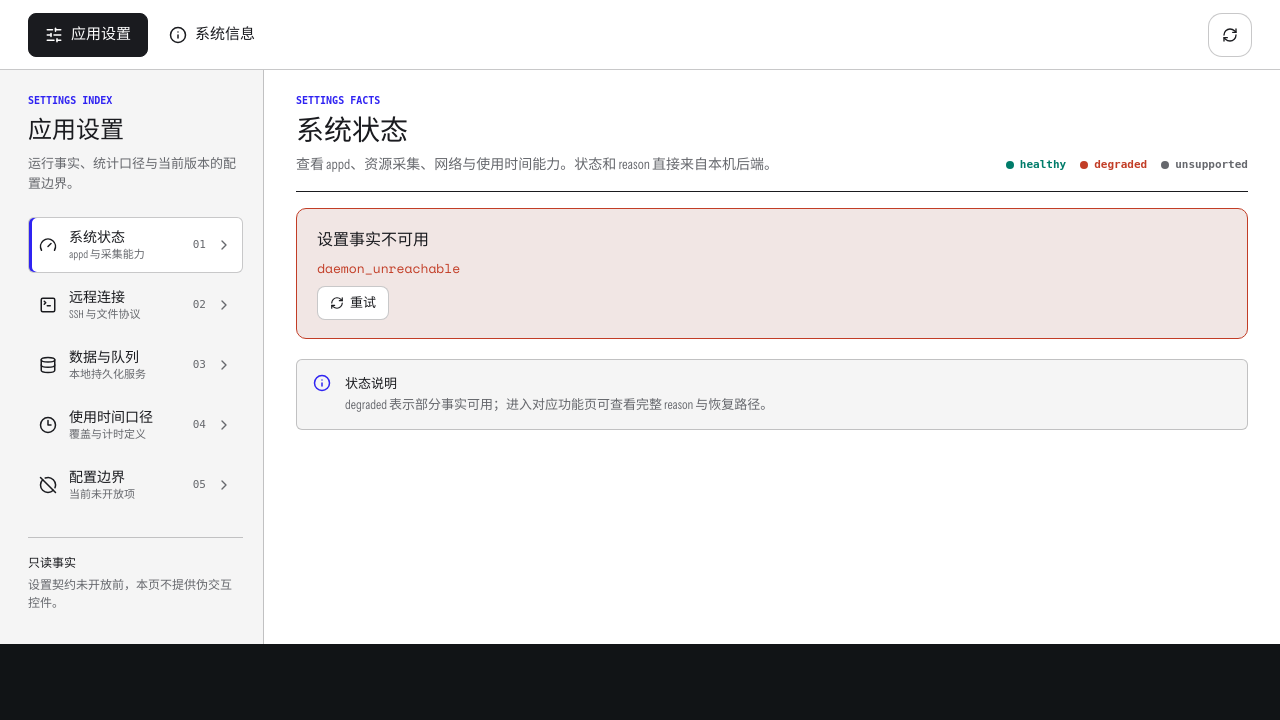
Test case: SettingsView › surfaces an unreachable daemon and retries the facts
Check: the message "设置事实不可用 daemon_unreachable 重试" is shown, box [296,208,1248,339]
Click the button with class "settings-retry". click: (353, 303)
box: [317,286,389,320]
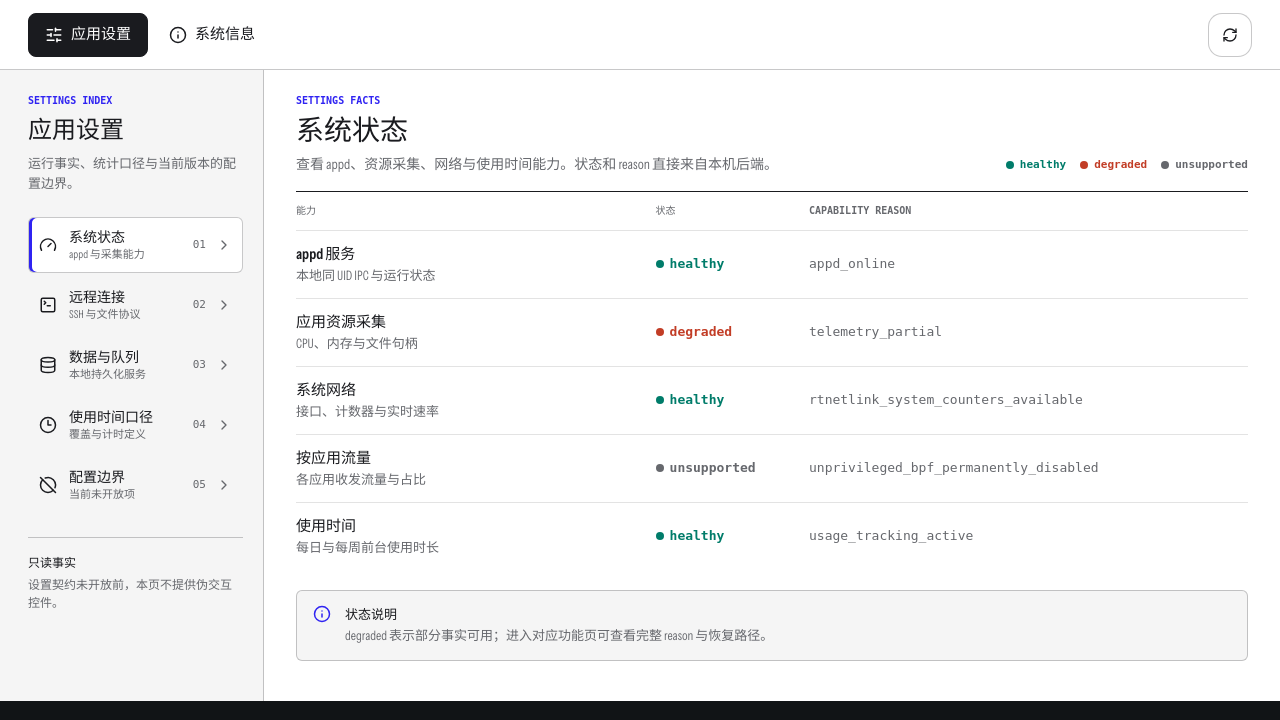
Check: the text "appd 服务" is shown, box [296,244,355,263]
